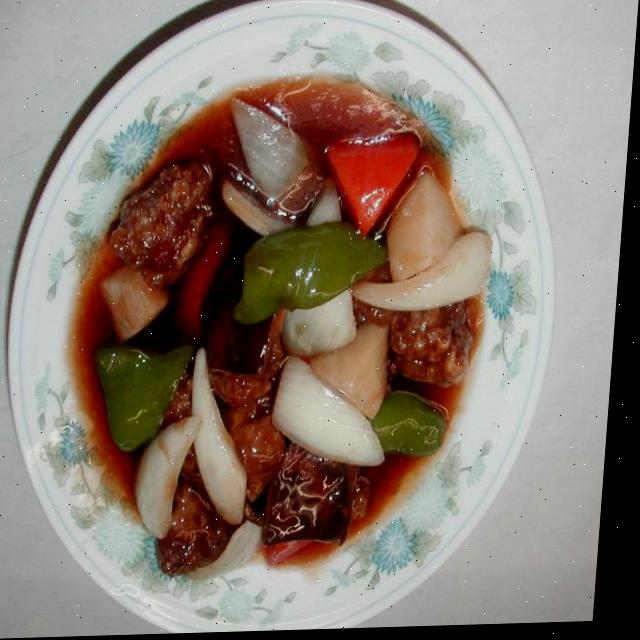猪肉菜式: (65, 75, 506, 583)
